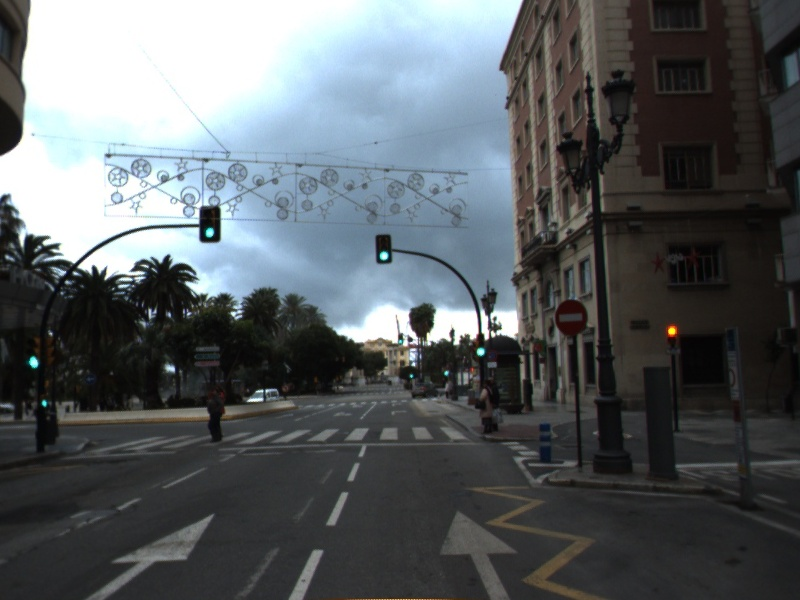STRAIGHT: (85, 510, 217, 600), (435, 507, 522, 600)
